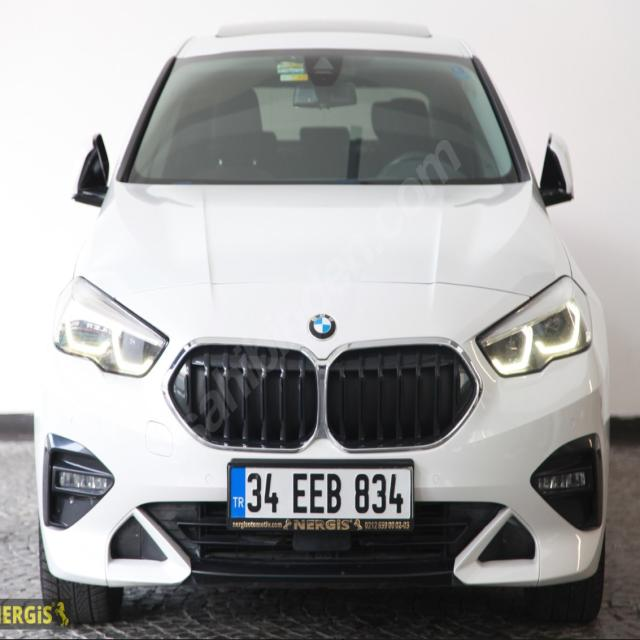bmw: (309, 311, 338, 342)
